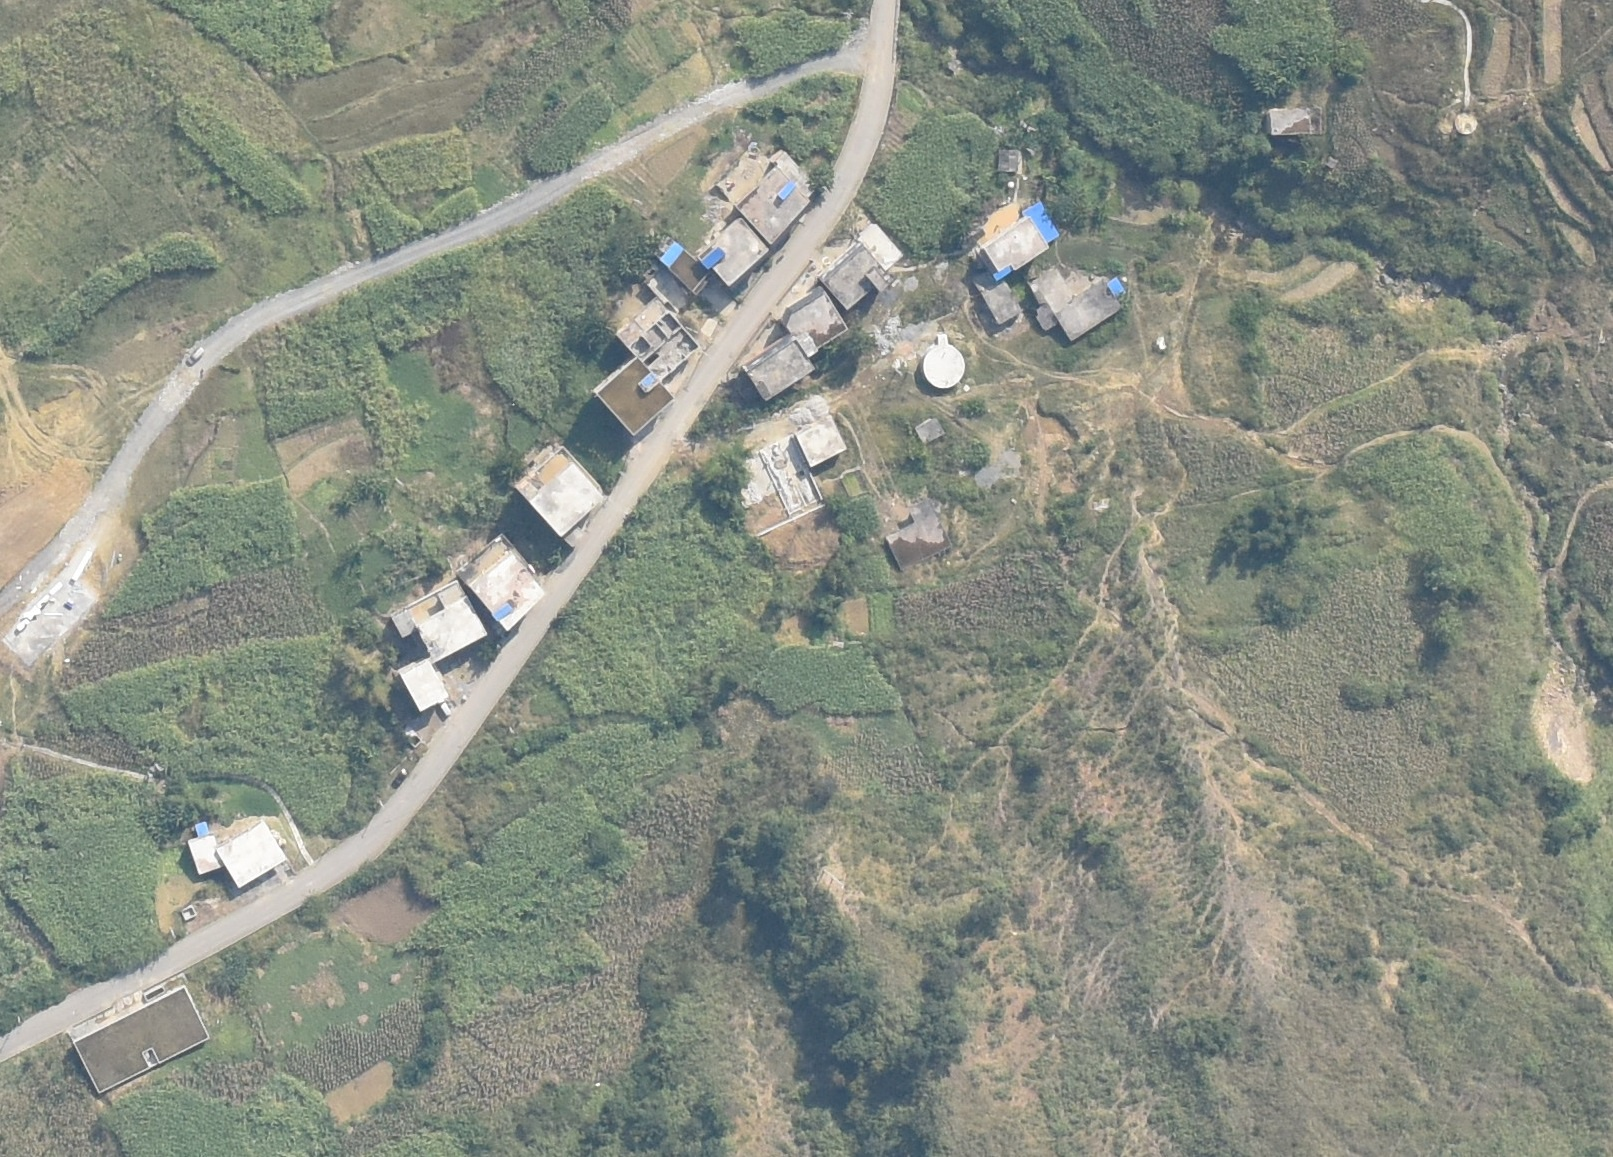building: (68, 984, 212, 1093), (713, 140, 812, 241), (454, 534, 546, 633), (1023, 253, 1125, 342), (515, 444, 605, 538), (615, 283, 696, 382), (391, 580, 486, 663), (815, 221, 901, 311), (593, 359, 677, 435), (884, 498, 953, 570), (743, 332, 813, 402), (699, 218, 767, 290), (215, 823, 287, 888), (779, 287, 848, 348), (981, 216, 1048, 278), (396, 656, 449, 713), (794, 412, 847, 468), (661, 239, 710, 297), (972, 270, 1018, 327), (188, 821, 219, 876), (1266, 107, 1321, 136), (994, 147, 1023, 182), (912, 417, 943, 441)
prefabricated-house: (1023, 201, 1060, 244)
well: (921, 345, 967, 390), (1455, 112, 1477, 134)
